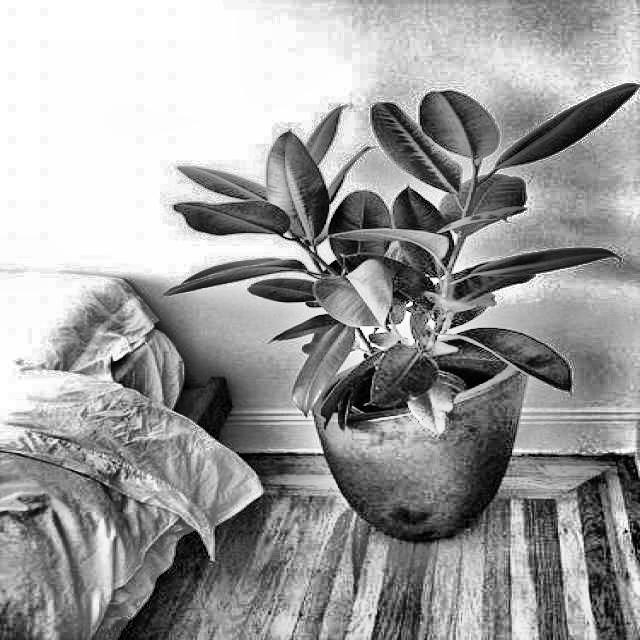plants: (182, 90, 626, 550)
